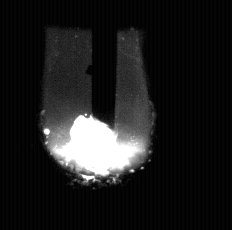arame: (93, 0, 116, 131)
poca: (46, 0, 150, 230)
